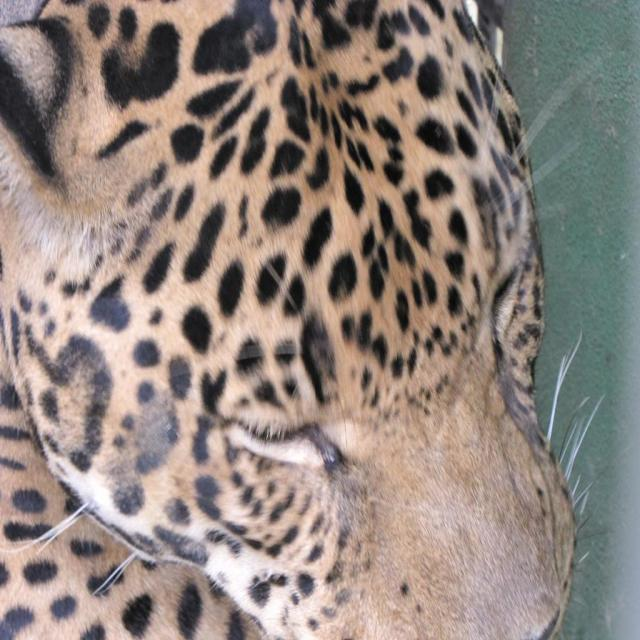Cheetah: (0, 0, 603, 639)
